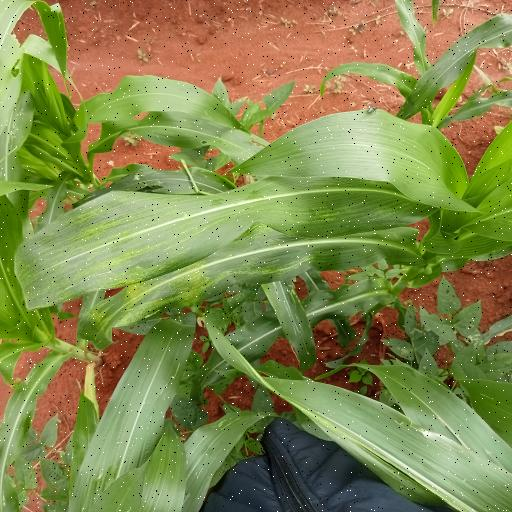Corn_Brown_Spots: (13, 172, 433, 336)
